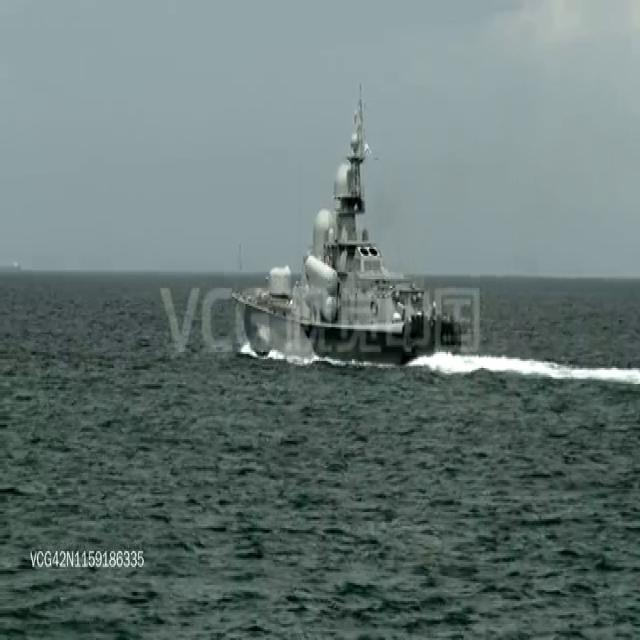houseboat: (227, 87, 466, 360)
